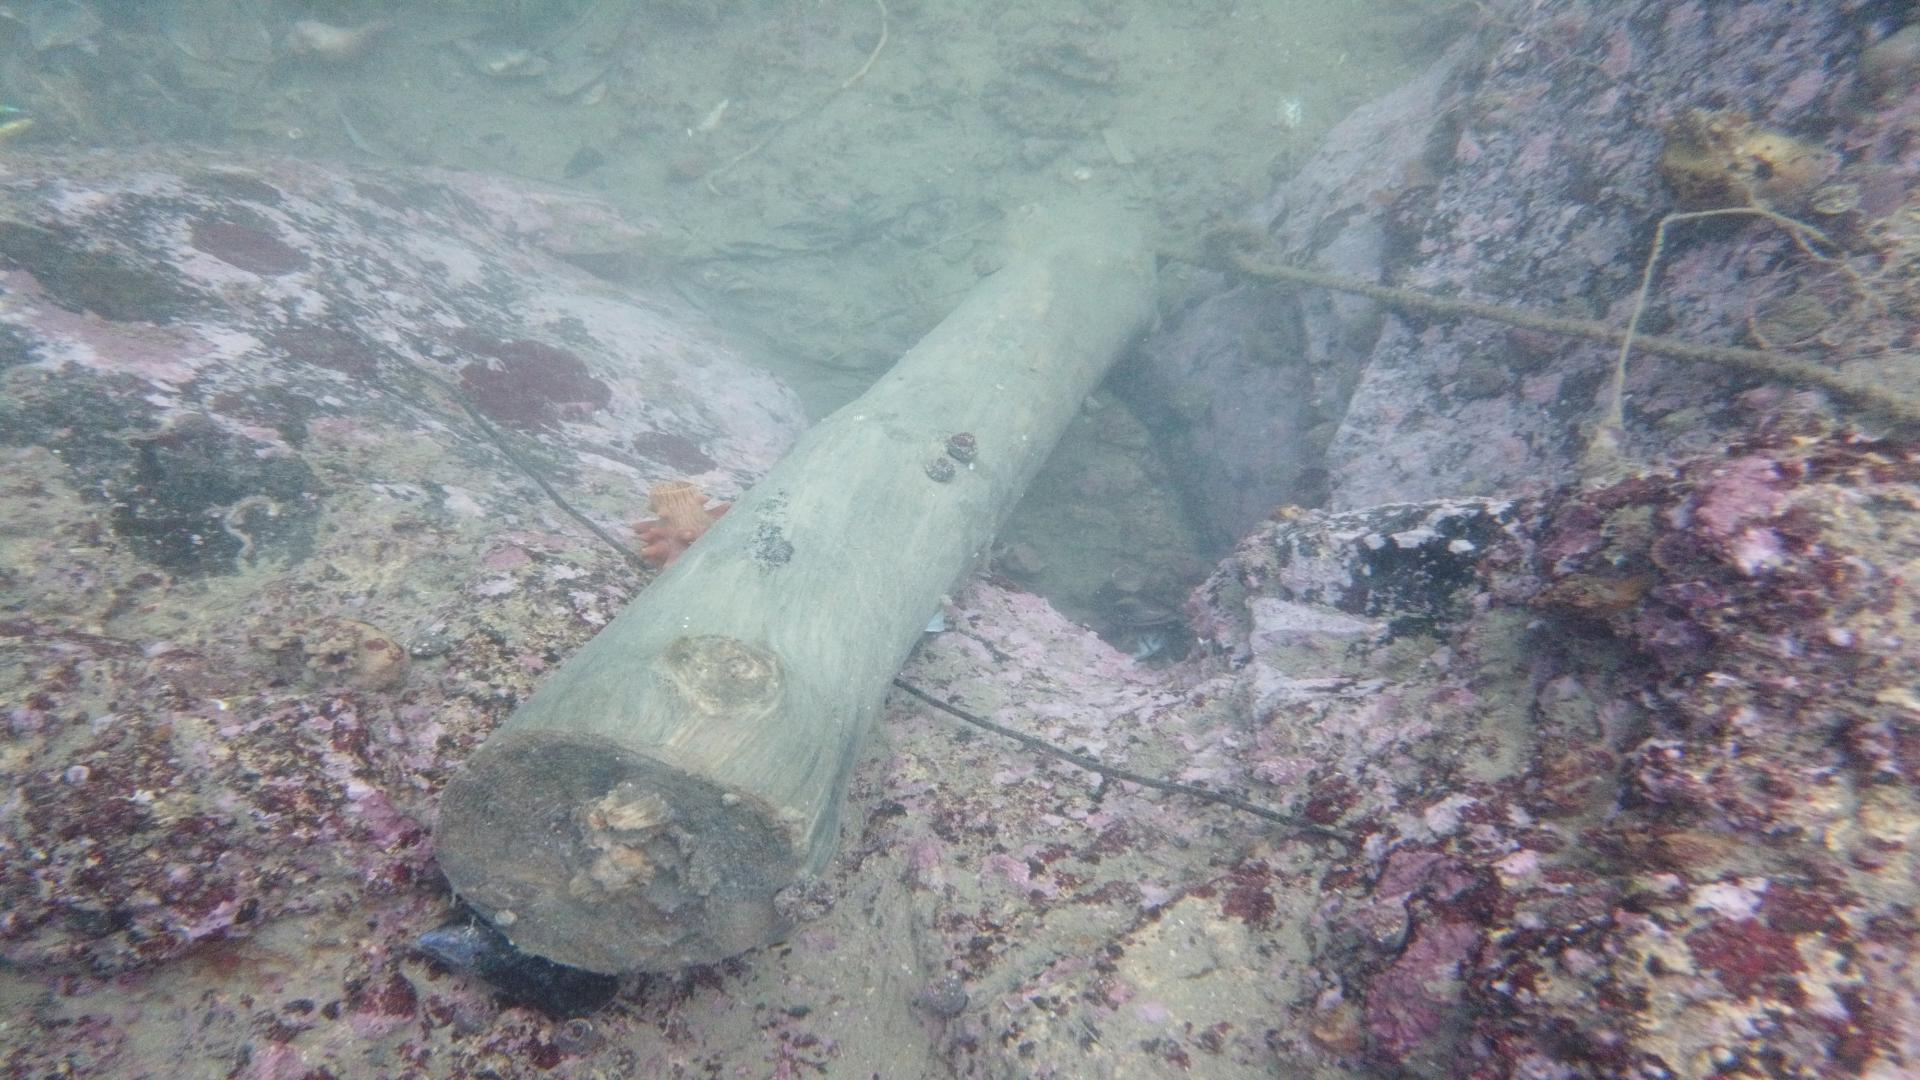rope: (1158, 244, 1920, 430)
wood: (430, 202, 1159, 975)
